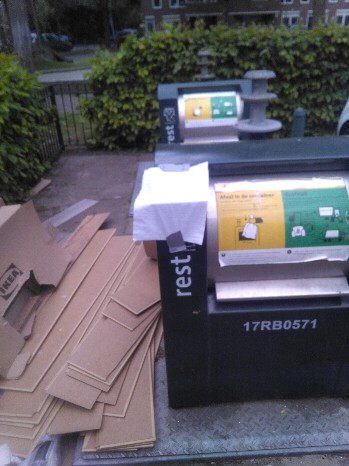Container: (148, 133, 349, 393), (166, 86, 260, 149)
Rest: (75, 222, 157, 460), (0, 231, 79, 432)
